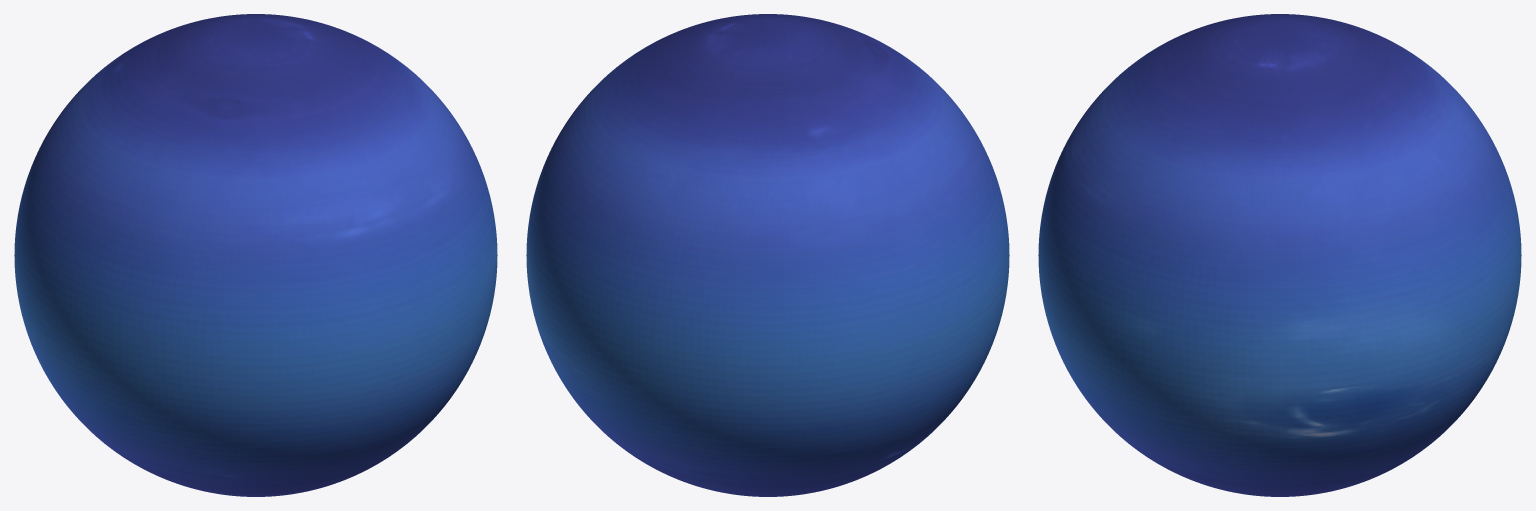
File: Neptune.gltf
3 views of the same model, side by side, from view 1: azimuth 30°, elevation 25°; view 2: azimuth 150°, elevation 25°; view 3: azimuth 270°, elevation 25° (orthographic).
Visible parts, largest first — view 1: Sphere; view 2: Sphere; view 3: Sphere.
Part boxes in pixels (x1,y1,x2,y2): Sphere: (14, 14, 497, 496); Sphere: (526, 14, 1009, 496); Sphere: (1038, 14, 1521, 496).
Size of the model in its own units: 3.34 by 3.34 by 3.34.
Materials: 1 (1 with a texture image).
